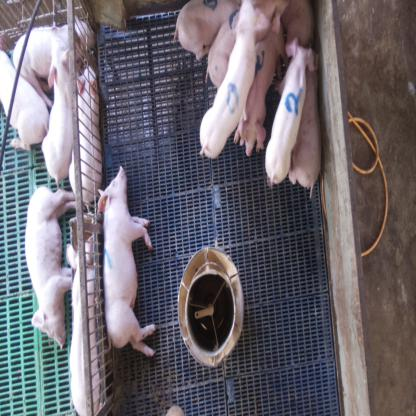2: (284, 88, 302, 118)
N-A: (227, 82, 239, 115)
